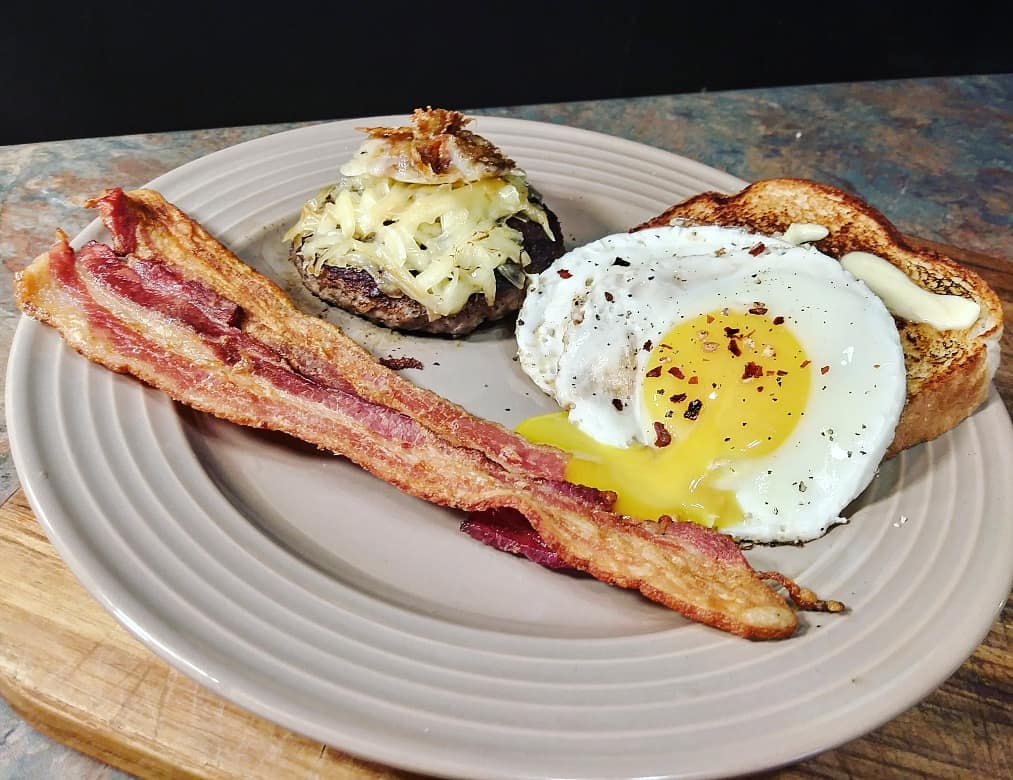fried egg: (545, 238, 878, 513)
slice of bread: (768, 164, 1009, 313)
